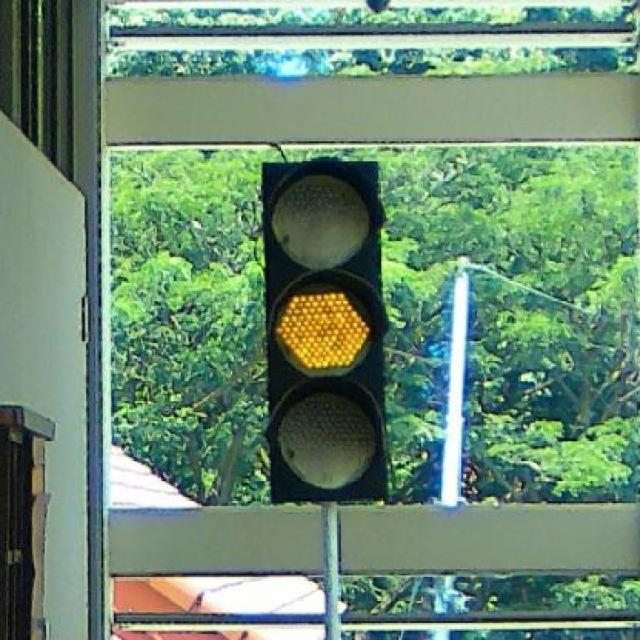yellow_light: (262, 158, 387, 500)
